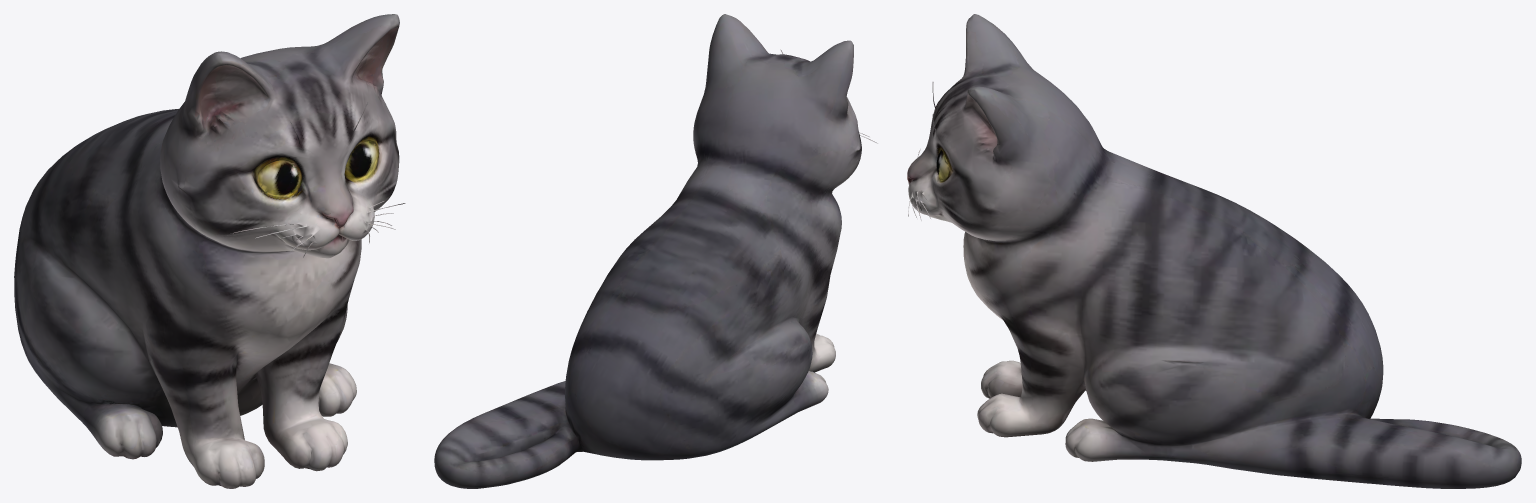
File: cat_sit.glb
3 renders of one model, left to right at view 1: azimuth 30°, elevation 25°; view 2: azimuth 150°, elevation 25°; view 3: azimuth 270°, elevation 25°, orthographic. The views are drawn at different scales.
Parts seen in each view (by area): view 1: node_0; view 2: node_0; view 3: node_0.
Boxes of the visible parts, x1,y1,x2,y2 form: node_0: [14, 14, 405, 488]; node_0: [434, 14, 877, 488]; node_0: [907, 14, 1521, 488].
Size of the model in its own units: 0.4888 by 0.6477 by 0.9714.
1 material, 1 textured.
